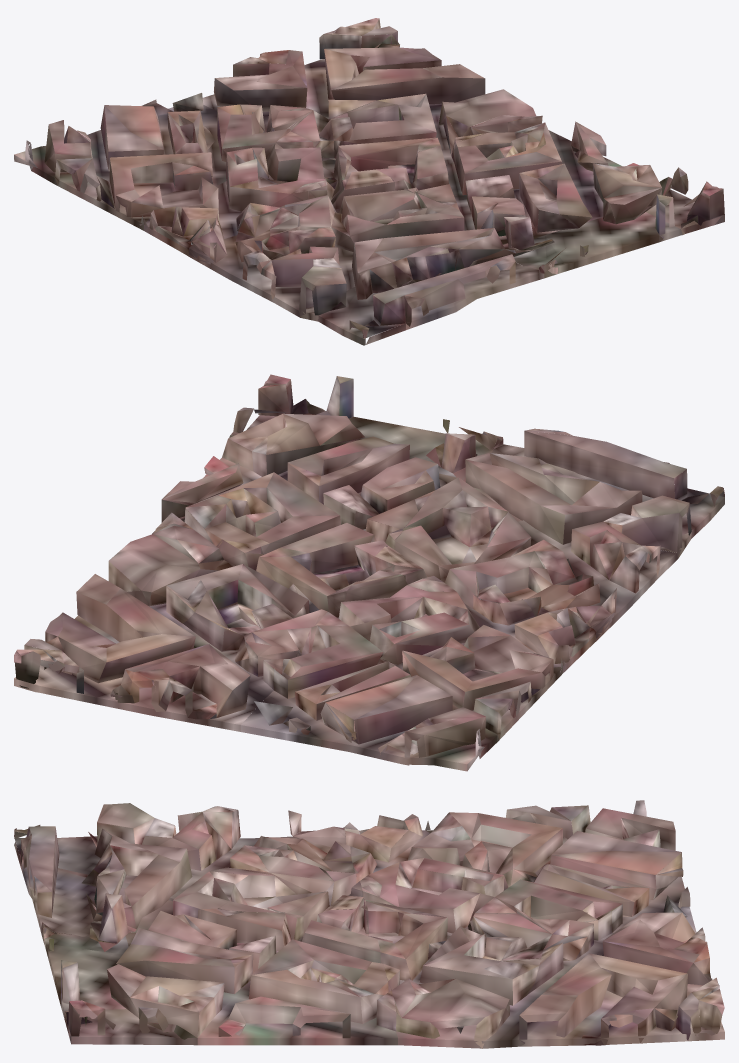
3 renders of one model, top to bottom at view 1: azimuth 30°, elevation 25°; view 2: azimuth 150°, elevation 25°; view 3: azimuth 270°, elevation 25°, orthographic. The views are drawn at different scales.
Parts seen in each view (by area): view 1: Mesh_0; view 2: Mesh_0; view 3: Mesh_0.
Part boxes in pixels (x1=…): Mesh_0: x1=14, y1=18, x2=724, y2=345; Mesh_0: x1=14, y1=374, x2=724, y2=771; Mesh_0: x1=14, y1=800, x2=724, y2=1048.
Bounding box in the file's own units: 533 × 82.09 × 659.
Materials: 2 (2 with a texture image).
